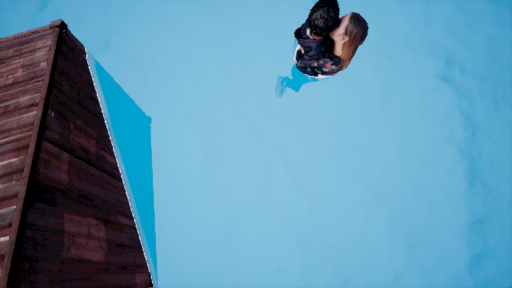person: (275, 1, 371, 110)
